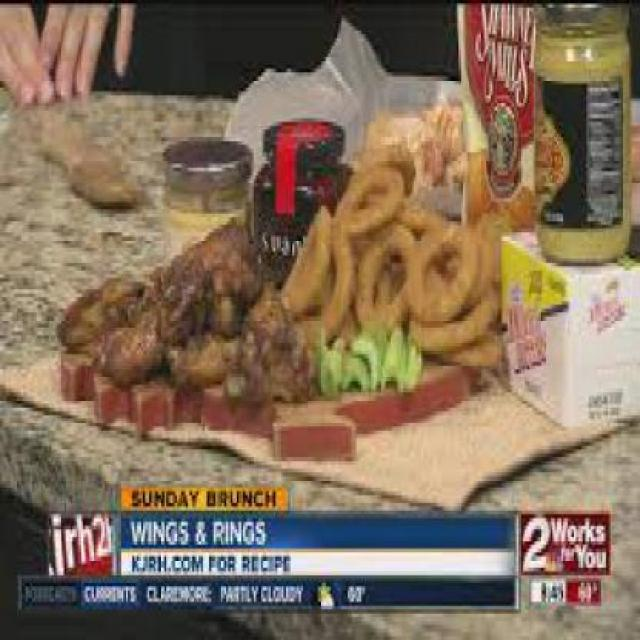chicken wings: (53, 224, 307, 442)
onion rings: (294, 163, 501, 400)
